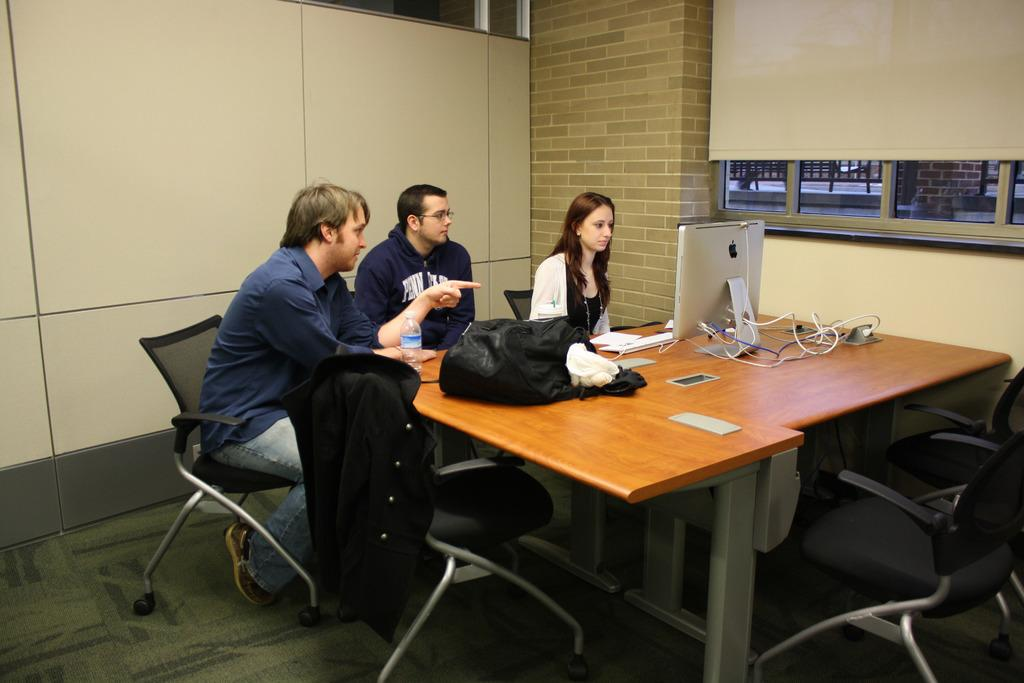Chair: (314, 367, 586, 682), (751, 427, 1023, 682), (120, 316, 330, 626), (836, 367, 1023, 677), (474, 286, 572, 525)
